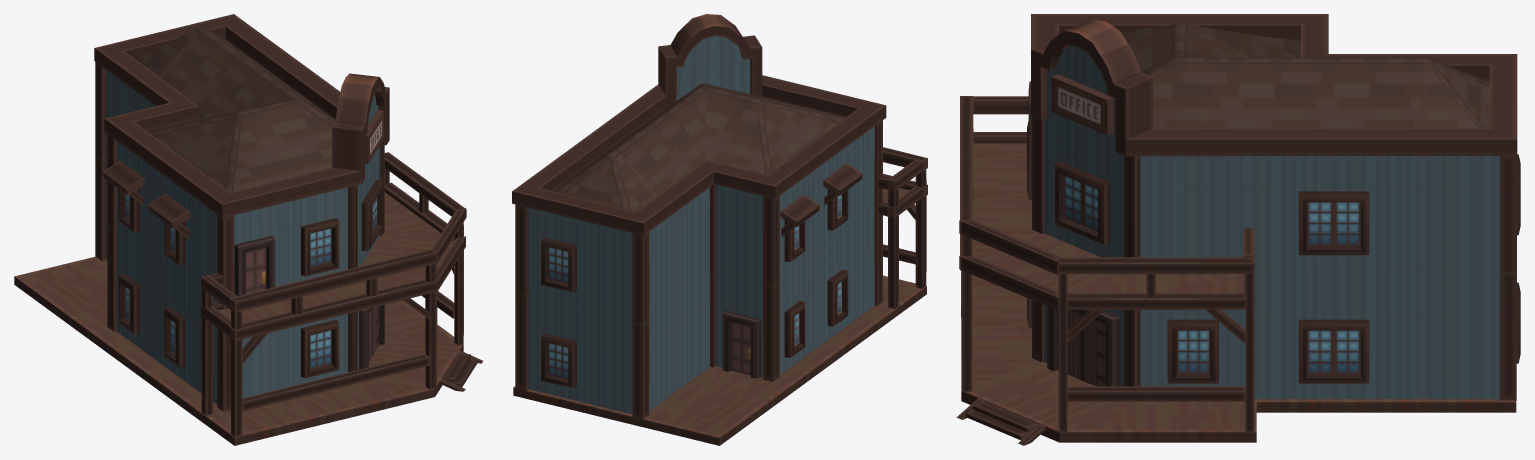
Rendered from house_v4_04_ncl1_2.fbx.
The picture shows the model from 3 angles, left to right: view 1: azimuth 30°, elevation 25°; view 2: azimuth 150°, elevation 25°; view 3: azimuth 270°, elevation 25°; orthographic projection. The views are drawn at different scales.
Visible parts, largest first — view 1: house_v4_04; view 2: house_v4_04; view 3: house_v4_04.
Part boxes in pixels (left/top/right/bottom): house_v4_04: left=14, top=14, right=482, bottom=445; house_v4_04: left=512, top=14, right=927, bottom=445; house_v4_04: left=956, top=14, right=1520, bottom=445.
Size of the model in its own units: 845 by 842 by 1195.
